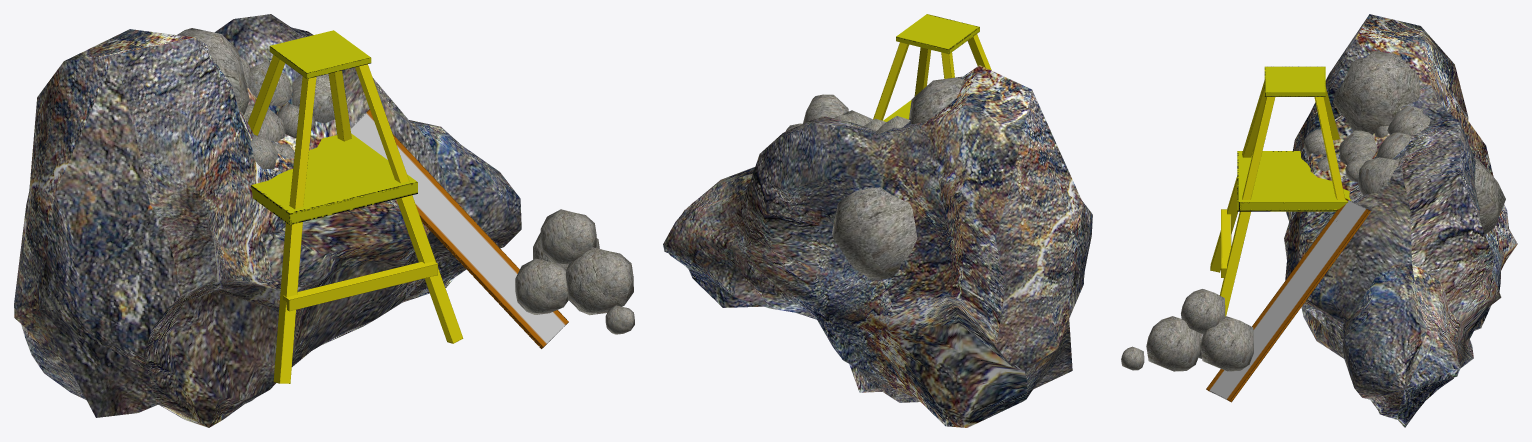
File: stone_mine.fbx
The picture shows the model from 3 angles, left to right: view 1: azimuth 30°, elevation 25°; view 2: azimuth 150°, elevation 25°; view 3: azimuth 270°, elevation 25°; orthographic projection. The views are drawn at different scales.
Parts seen in each view (by area): view 1: stone_mine_mesh; view 2: stone_mine_mesh; view 3: stone_mine_mesh.
Boxes of the visible parts, x1,y1,x2,y2 form: stone_mine_mesh: (14, 14, 634, 427); stone_mine_mesh: (663, 14, 1092, 427); stone_mine_mesh: (1121, 14, 1517, 427).
Size of the model in its own units: 22.3 by 17.45 by 19.5.
